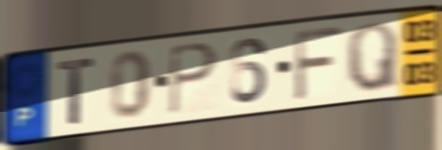0: (107, 48, 154, 124)
6: (229, 36, 270, 107)
F: (292, 24, 346, 104)
P: (167, 40, 220, 119)
Q: (344, 19, 401, 94)
T: (55, 55, 98, 128)
